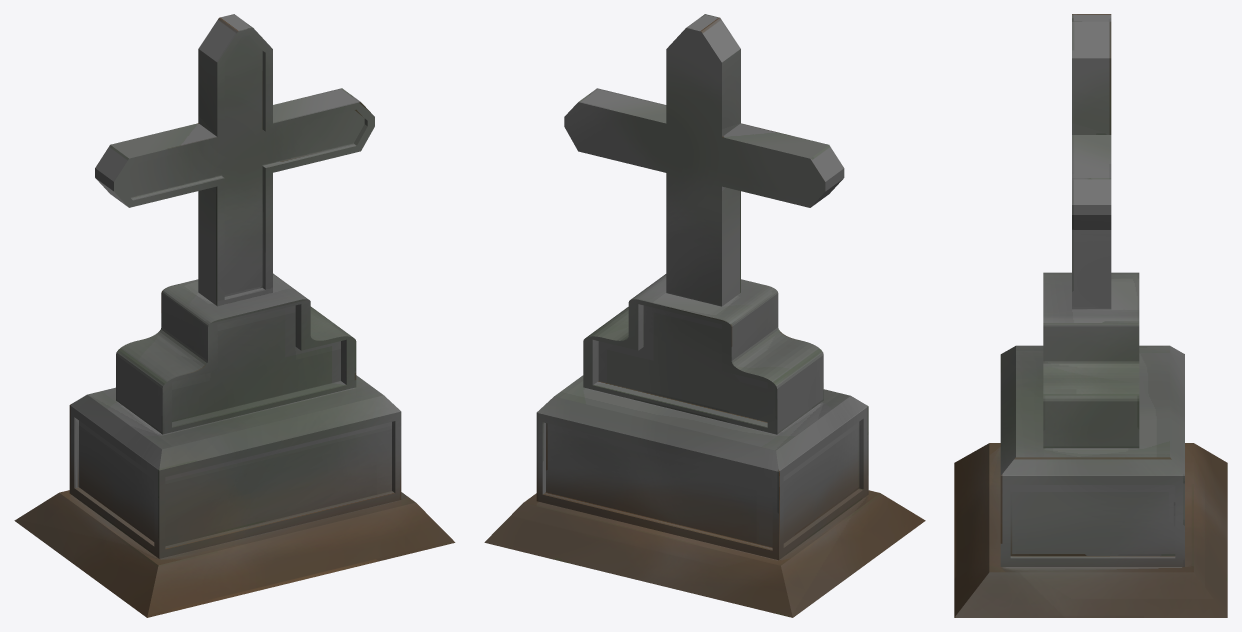
Rendered from tomb_5.fbx.
3 views of the same model, side by side, from view 1: azimuth 30°, elevation 25°; view 2: azimuth 150°, elevation 25°; view 3: azimuth 270°, elevation 25° (orthographic). The views are drawn at different scales.
Visible parts, largest first — view 1: Cube.001; view 2: Cube.001; view 3: Cube.001.
Part boxes in pixels (x1,y1,x2,y2): Cube.001: [14, 14, 455, 617]; Cube.001: [484, 14, 925, 617]; Cube.001: [954, 14, 1227, 617].
Bounding box in the file's own units: 0.9729 × 1.53 × 0.7256.
1 material, 1 textured.
